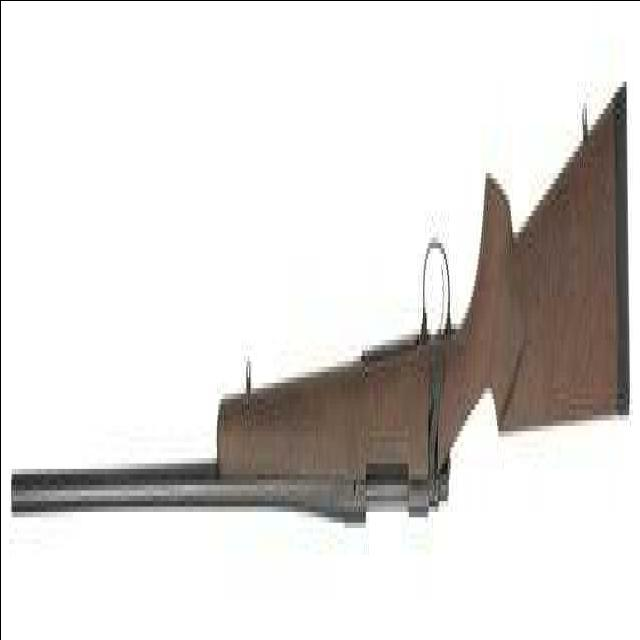heavyweapon: (5, 71, 640, 614)
